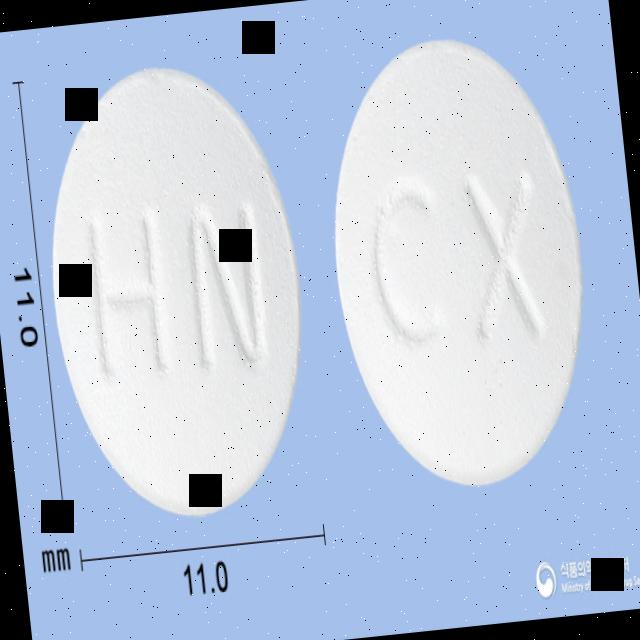Cipron: (309, 21, 610, 506), (27, 51, 326, 532)
